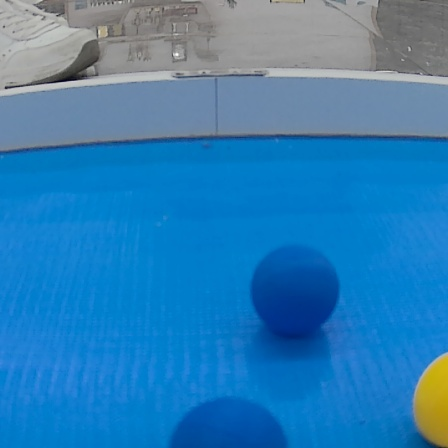blue: (252, 246, 340, 339), (168, 393, 294, 448)
blue_base: (3, 129, 448, 448)
yellow: (409, 343, 448, 448)
